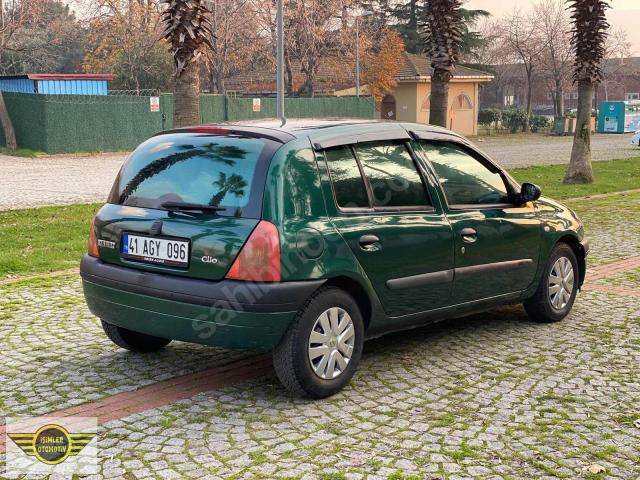plaka: (122, 233, 189, 267)
